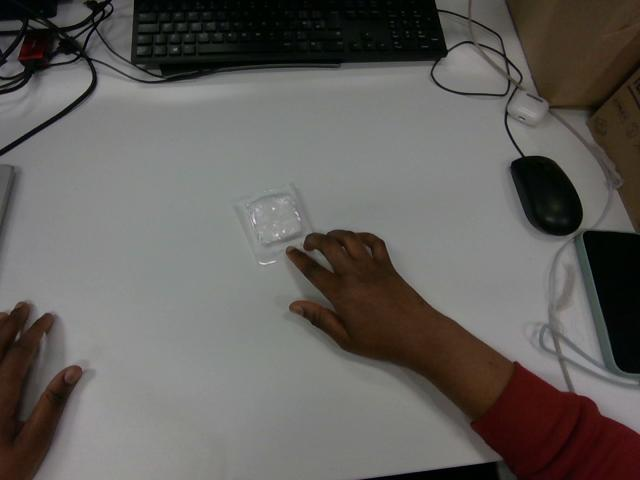gauze: (234, 184, 311, 264)
